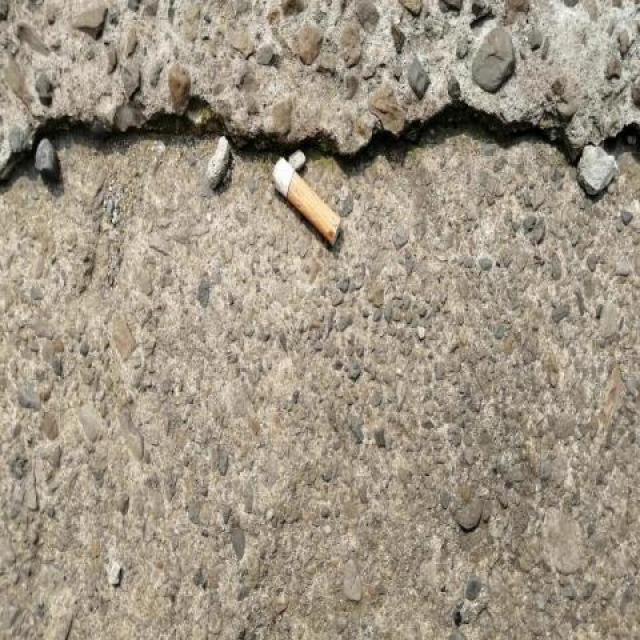non-organic waste: (267, 152, 346, 252)
